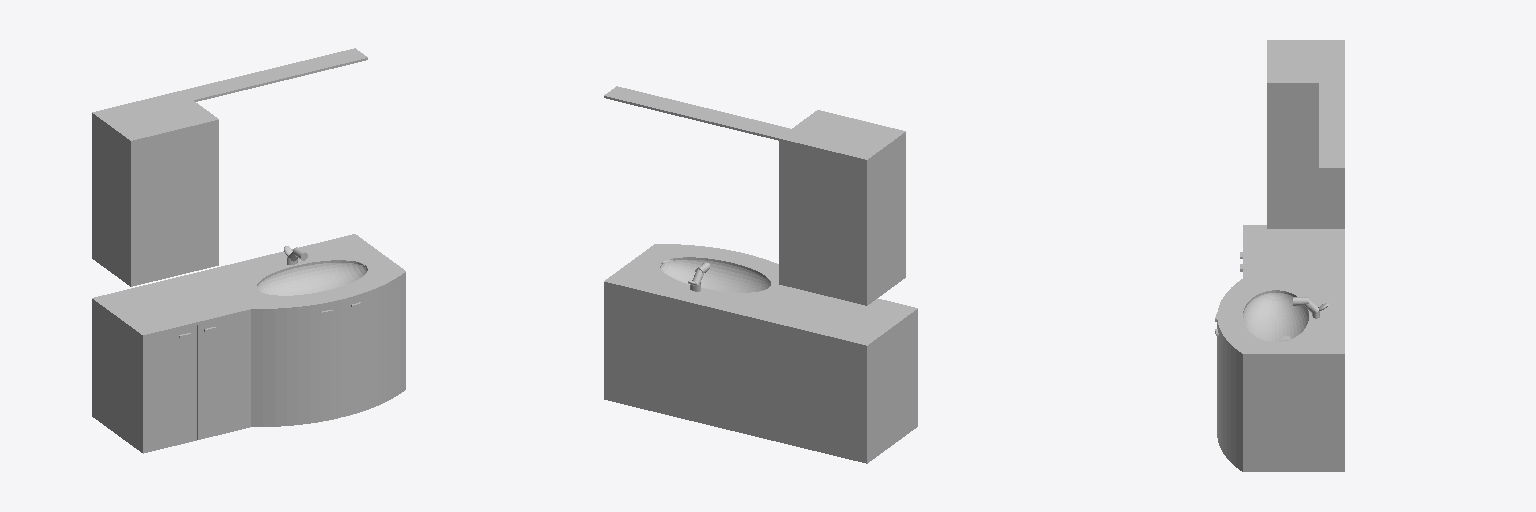
Rendered from washbowl.obj.
The picture shows the model from 3 angles: view 1: azimuth 30°, elevation 25°; view 2: azimuth 150°, elevation 25°; view 3: azimuth 270°, elevation 25°; orthographic projection.
Visible parts, largest first — view 1: piece_1_161_161, piece_1_17_17, piece_1_226_226, piece_1_33_33, piece_1_1_1, piece_1_383_383; view 2: piece_1_161_161, piece_1_33_33, piece_1_226_226, piece_1_1_1, piece_1_383_383; view 3: piece_1_161_161, piece_1_33_33, piece_1_226_226, piece_1_383_383, piece_1_1_1.
Boxes of the visible parts, <box> form: piece_1_161_161: <box>92,274,405,453</box>; piece_1_17_17: <box>130,119,218,286</box>; piece_1_226_226: <box>92,234,405,337</box>; piece_1_33_33: <box>92,91,217,285</box>; piece_1_1_1: <box>181,48,367,101</box>; piece_1_383_383: <box>257,263,366,295</box>; piece_1_161_161: <box>604,284,917,463</box>; piece_1_33_33: <box>779,111,904,305</box>; piece_1_226_226: <box>604,244,917,347</box>; piece_1_1_1: <box>604,86,790,140</box>; piece_1_383_383: <box>661,260,770,292</box>; piece_1_161_161: <box>1217,322,1344,471</box>; piece_1_33_33: <box>1268,40,1344,228</box>; piece_1_226_226: <box>1217,225,1344,355</box>; piece_1_383_383: <box>1243,293,1308,341</box>; piece_1_1_1: <box>1319,83,1344,170</box>.
Size of the model in its own units: 119 by 131 by 50.86.